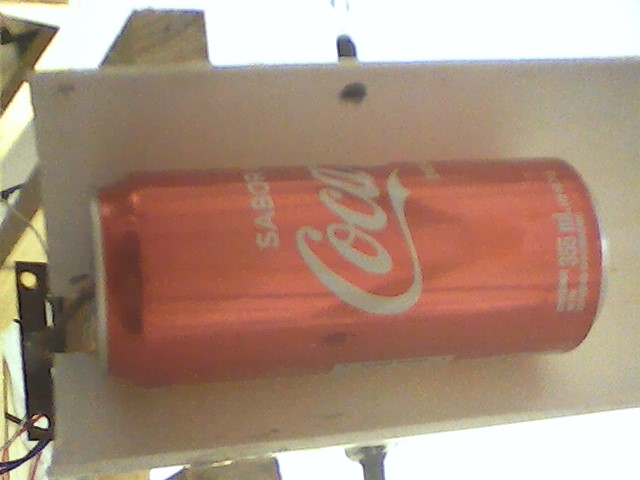lata: (86, 155, 608, 393)
